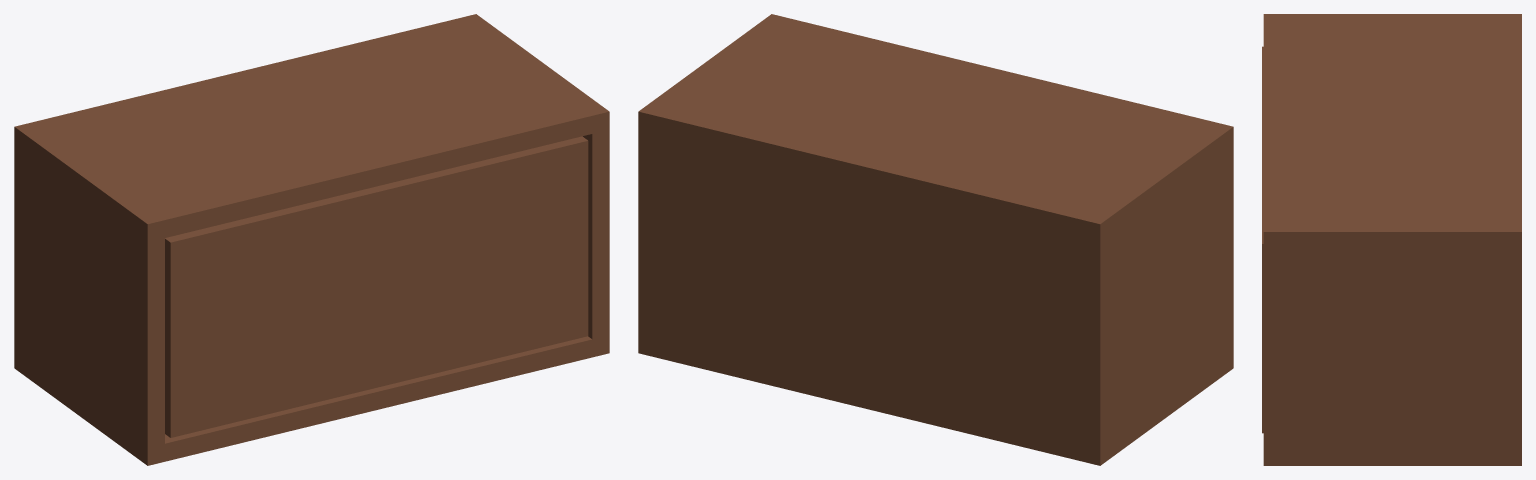
File: Cabinet_Long.fbx
The picture shows the model from 3 angles, left to right: view 1: azimuth 30°, elevation 25°; view 2: azimuth 150°, elevation 25°; view 3: azimuth 270°, elevation 25°; orthographic projection. The views are drawn at different scales.
Parts seen in each view (by area): view 1: CABINET LONG; view 2: CABINET LONG; view 3: CABINET LONG.
Boxes of the visible parts, box(x1,y1,x2,y2) form: CABINET LONG: box(14, 14, 609, 465); CABINET LONG: box(638, 14, 1233, 465); CABINET LONG: box(1262, 14, 1521, 465).
Size of the model in its own units: 100 by 50 by 50.32.
